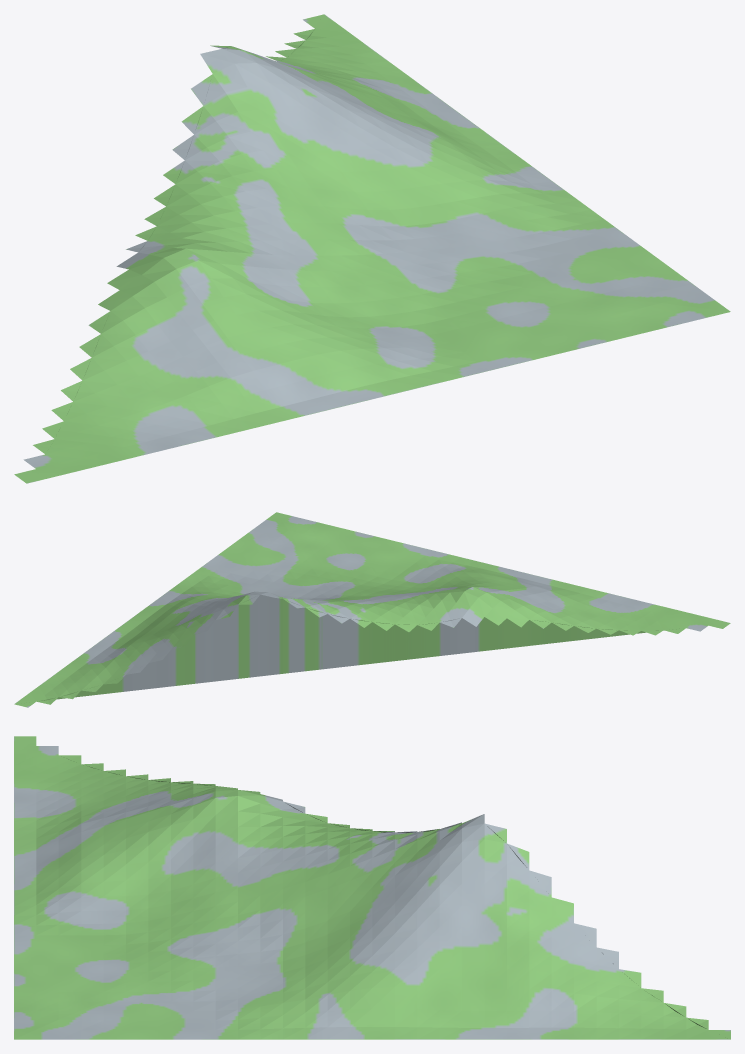
File: Grass_RockyGround_06_NE.obj
3 views of the same model, one above another, from view 1: azimuth 30°, elevation 25°; view 2: azimuth 150°, elevation 25°; view 3: azimuth 270°, elevation 25° (orthographic). The views are drawn at different scales.
Size of the model in its own units: 10 by 1.72 by 10.
Materials: 1 (1 with a texture image).
